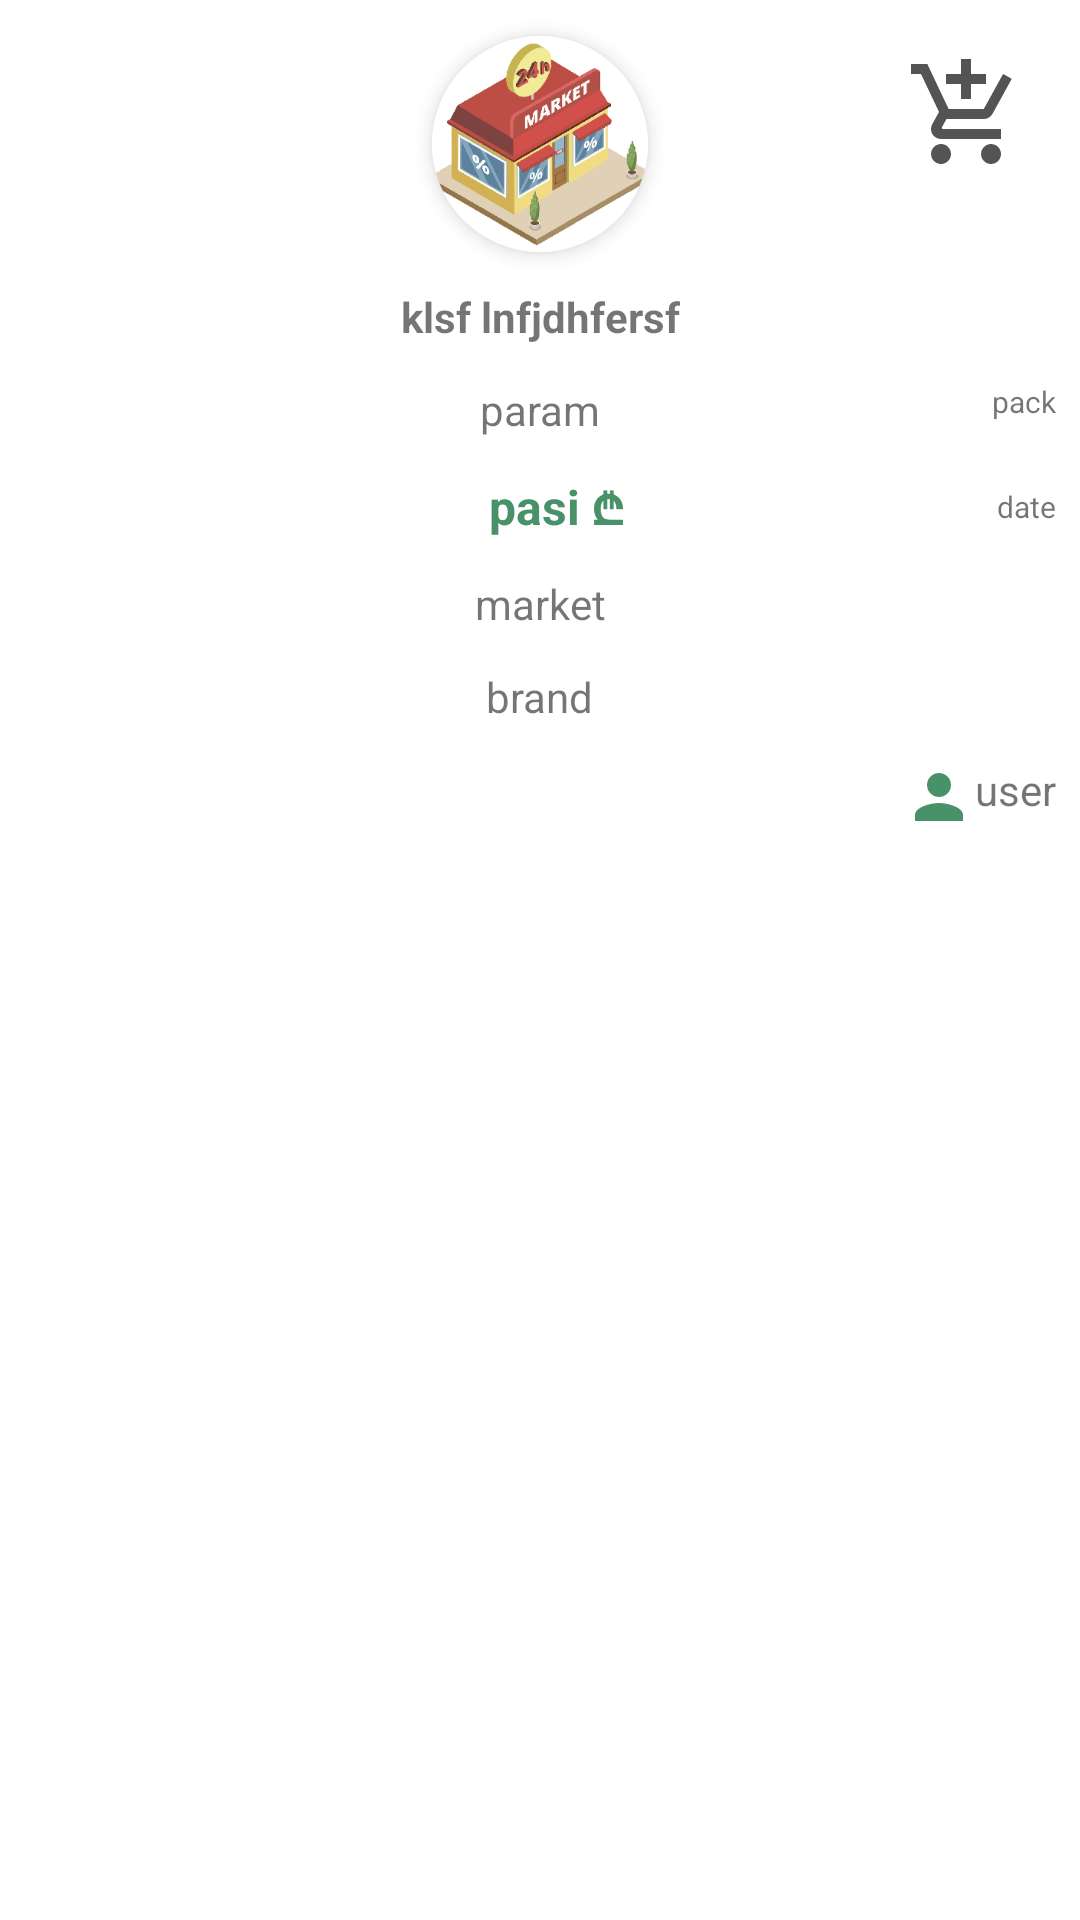

Named icons in this screenshot (1080px×1920px) and their bounding boxes, region(x1, y1, x2, y2):
add shopping: region(911, 59, 1012, 164)
